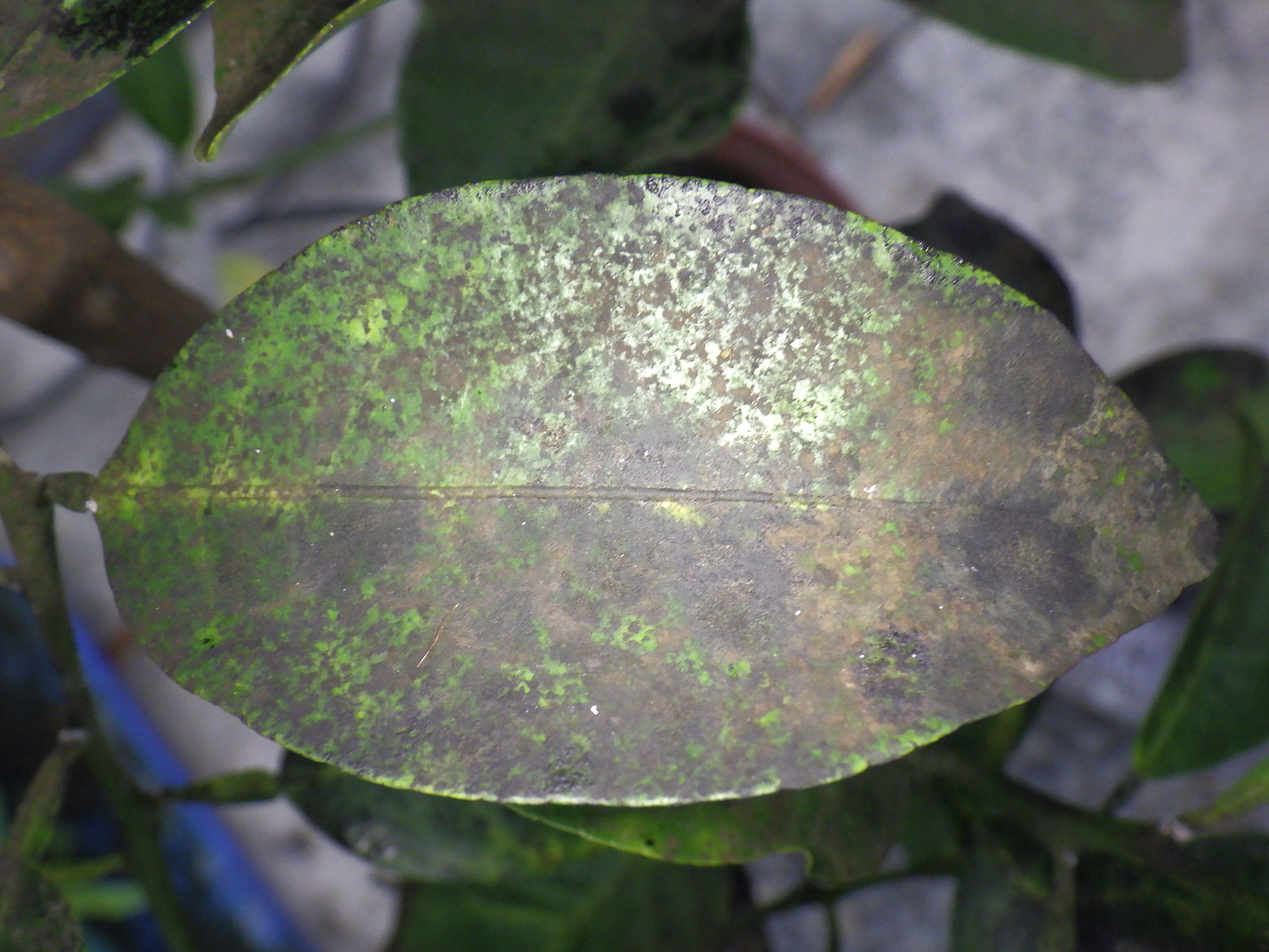Sooty_Mold: (91, 175, 1214, 803)
